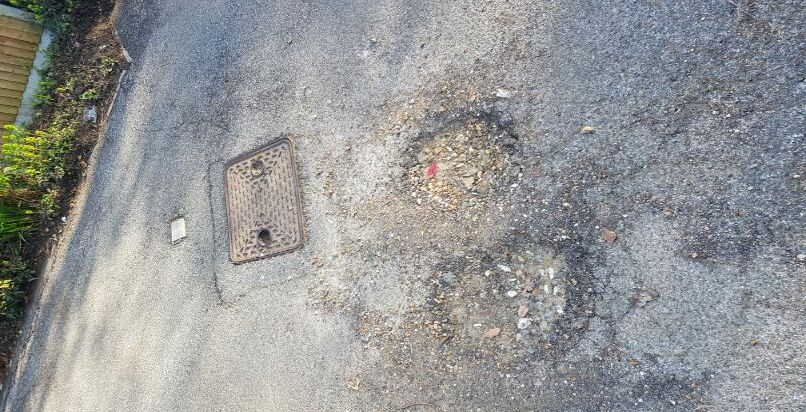pothole: (425, 221, 599, 374), (395, 101, 526, 214)
